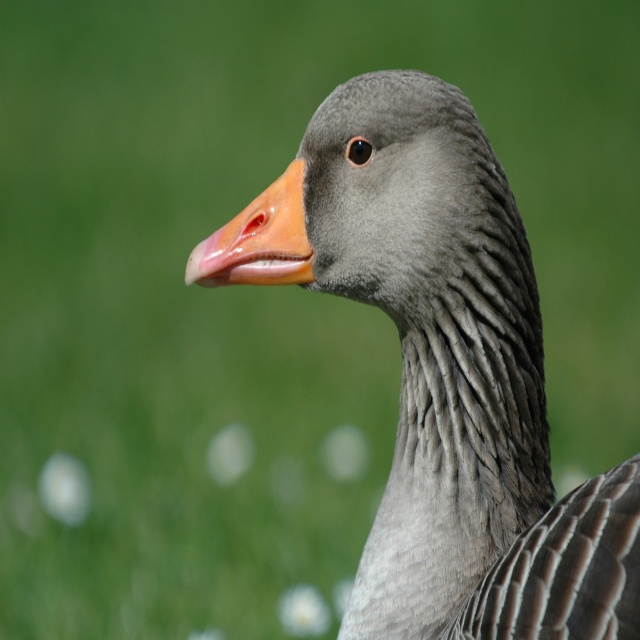Goose: (184, 67, 640, 639)
